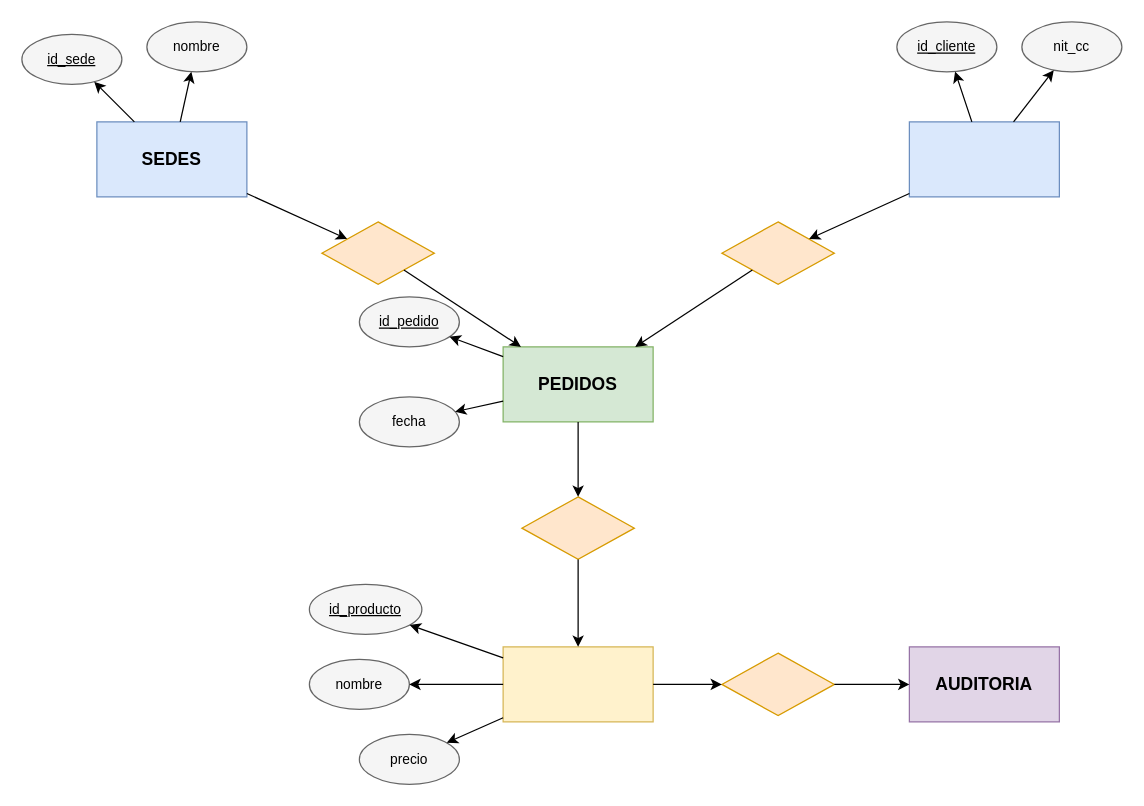
This 1144x806 diagram has some shape labels left out. The box of each missing label's shape, as (x1, y1, x2, y2) in pixels:
CLIENTES: (908, 121, 1059, 197)
Contiene: (521, 496, 634, 559)
Gestiona: (321, 221, 434, 284)
PRODUCTOS: (502, 646, 653, 722)
Realiza: (721, 221, 834, 284)
Registra: (721, 652, 834, 716)
